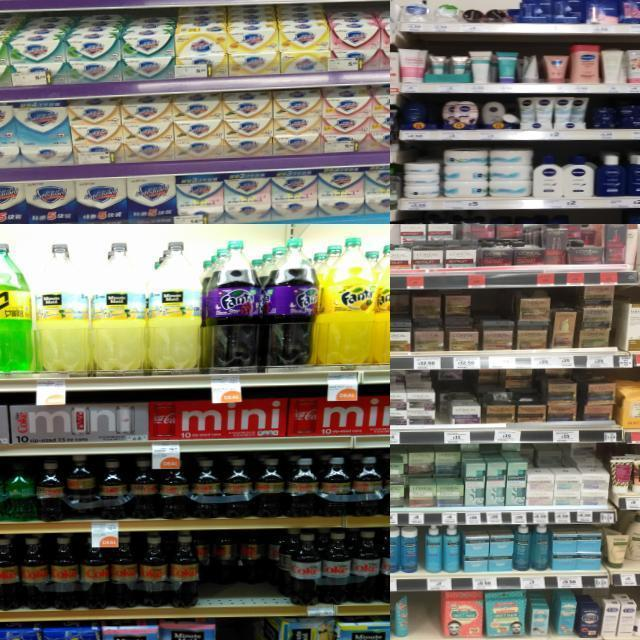Imprecise: (200, 530, 286, 608), (442, 368, 546, 422), (392, 292, 474, 350), (402, 444, 456, 504)
